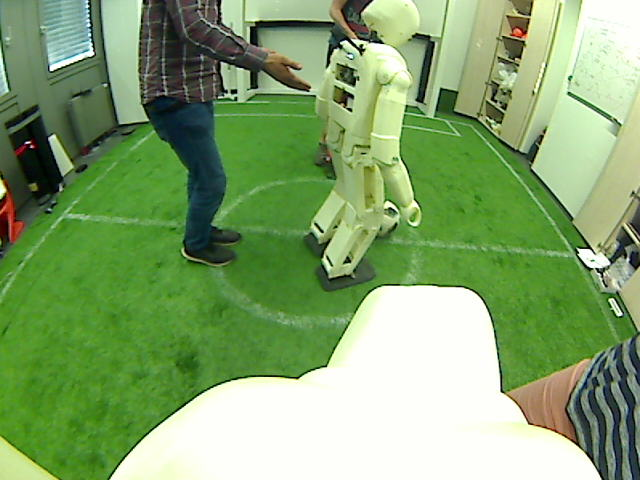ball: (375, 193, 400, 240)
goalpost: (421, 82, 439, 121), (236, 66, 248, 105)
robot: (327, 214, 361, 286)
